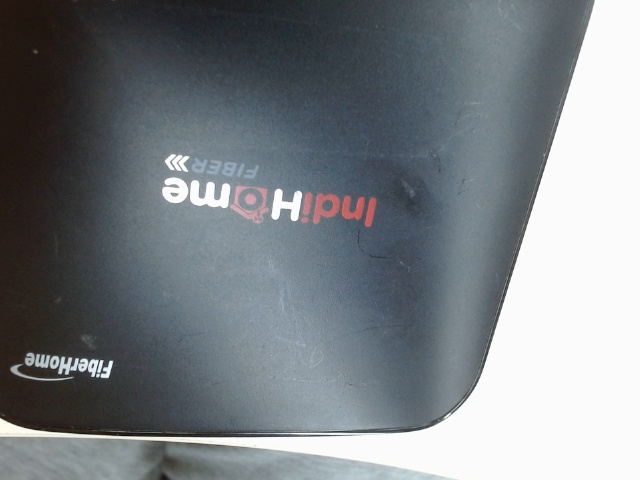AF_IndiHome: (145, 145, 382, 232)
